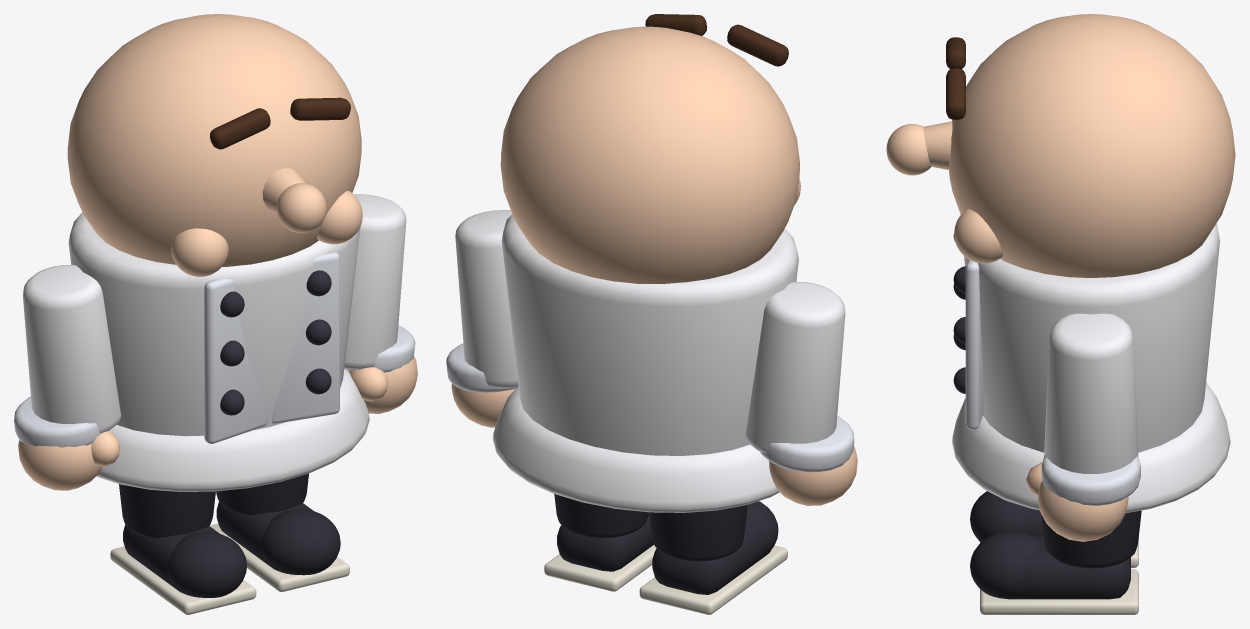
File: chef_base.glb
The picture shows the model from 3 angles, left to right: view 1: azimuth 30°, elevation 25°; view 2: azimuth 150°, elevation 25°; view 3: azimuth 270°, elevation 25°; orthographic projection. The views are drawn at different scales.
Parts seen in each view (by area): view 1: skull, jacket, hem, sleeve, sleeve.001, lapel, lapel.001, toe, toe.001, trouser, mitt, sole (+17 smaller); view 2: skull, jacket, hem, sleeve, sleeve.001, trouser, shoe, shoe.001, sole, cuff, mitt, trouser.001 (+6 smaller); view 3: skull, jacket, sleeve.001, hem, shoe.001, toe.001, trouser.001, cuff.001, mitt.001, sole.001, lapel.001, toe (+5 smaller).
Part boxes in pixels (x1,y1,x2,y2): skull: (67,14,361,266); jacket: (68,212,360,436); hem: (96,369,369,491); sleeve: (23,265,120,433); sleeve.001: (344,194,406,369); lapel: (204,278,267,443); lapel.001: (272,251,339,423); toe: (167,532,246,597); toe.001: (261,509,340,575); trouser: (119,484,215,538); mitt: (18,440,101,490); sole: (110,546,256,614); skull: (500,26,799,283); jacket: (501,214,798,455); hem: (492,388,779,512); sleeve: (745,282,845,453); sleeve.001: (455,210,518,388); trouser: (649,505,747,561); shoe: (652,522,770,594); shoe.001: (557,513,653,571); sole: (639,545,787,614); cuff: (760,416,854,472); mitt: (769,446,857,505); trouser.001: (554,494,648,538); skull: (949,14,1235,277); jacket: (964,223,1219,452); sleeve.001: (1044,313,1138,473); hem: (952,382,1230,512); shoe.001: (999,535,1130,599); toe.001: (970,531,1040,598); trouser.001: (1041,510,1141,568); cuff.001: (1041,455,1140,505); mitt.001: (1038,481,1128,541); sole.001: (980,569,1138,614); lapel.001: (965,259,984,429); toe: (970,491,1030,542).
Size of the model in its own units: 1.16 by 1.51 by 0.8776.
